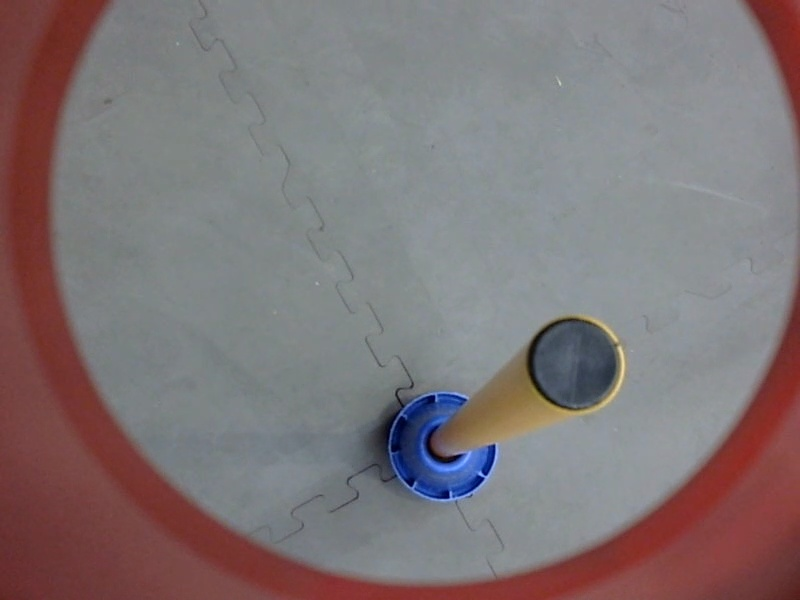tip: (522, 308, 626, 417)
